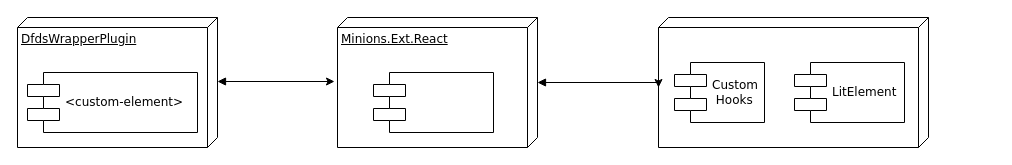
Image size: 1012x165. Some labels were removed from this diagram. The shapes that lost their labels are listed below. From the top down, each one's box as (x1, y1, x2, y2) in pixels, then its label:
(372, 72, 494, 132): Rendering Hooks
(658, 16, 928, 148): Minions.Component.WebAPI
